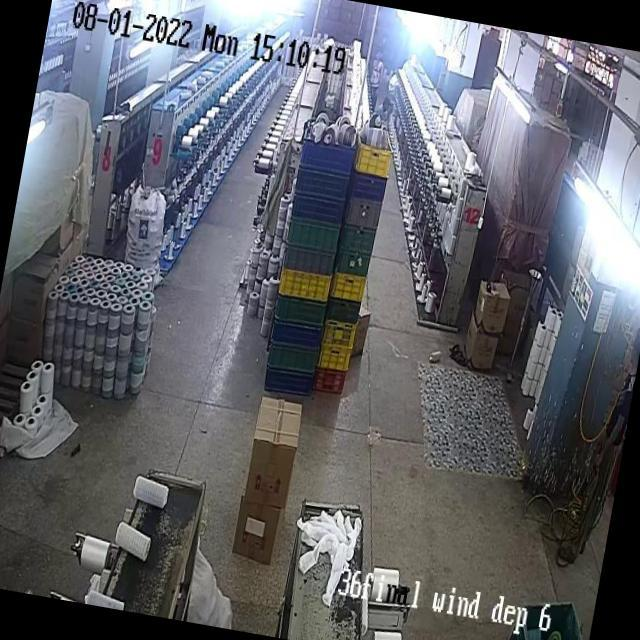person: (366, 50, 386, 98), (382, 95, 397, 129), (376, 96, 390, 122)
